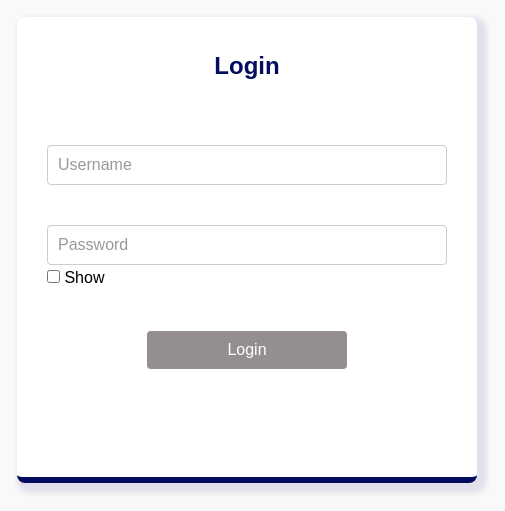
Test case: Login › displays error message on failed login
In the field with placeholder "Username": x=247, y=165 [47,145,447,185], type "test@example.com"
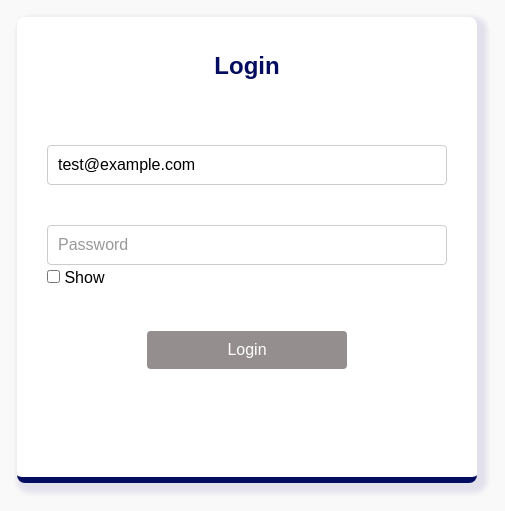
In the password field with placeholder "Password": x=247, y=245 [47,225,447,265], type "wrongpassword"
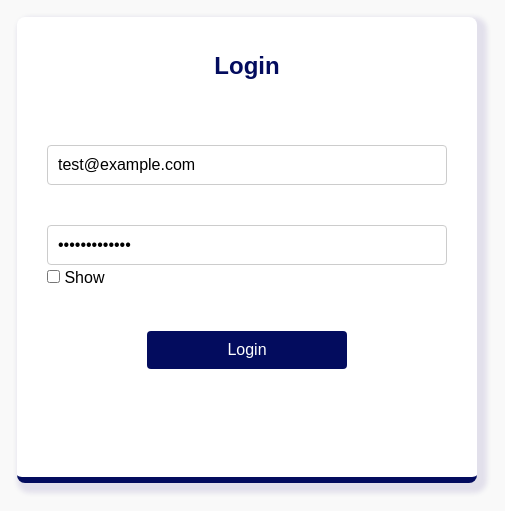
Click the button "Login": x=247, y=350 [147,331,347,369]
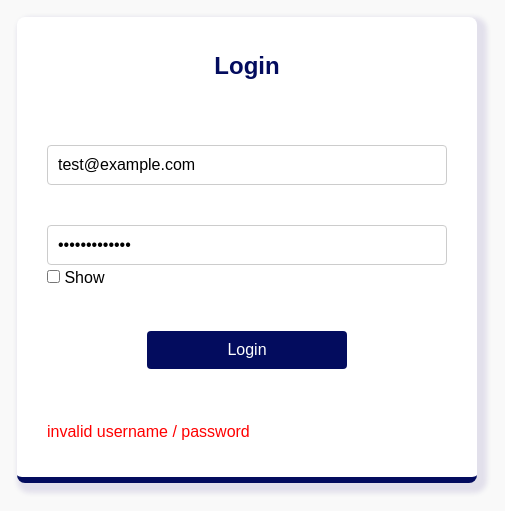
Result: the text "invalid username / password" is shown at [47,423,250,440]
